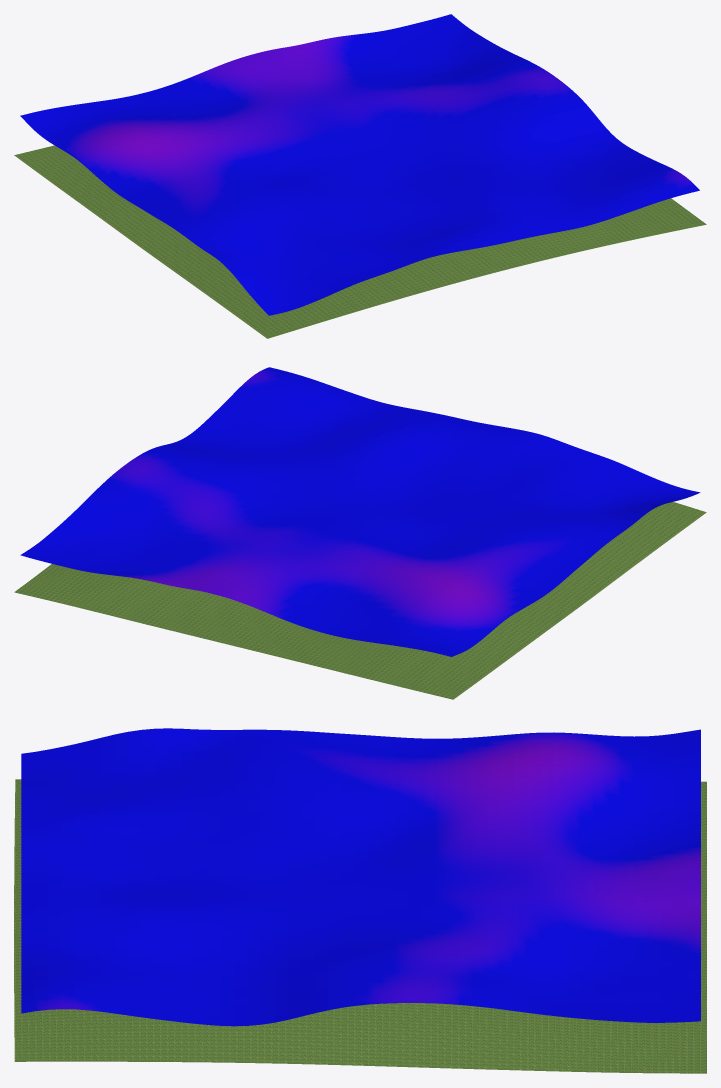
The model's file is terrainobject.glb.
3 views of the same model, one above another, from view 1: azimuth 30°, elevation 25°; view 2: azimuth 150°, elevation 25°; view 3: azimuth 270°, elevation 25° (orthographic). The views are drawn at different scales.
Visible parts, largest first — view 1: Plane.001, Plane; view 2: Plane.001, Plane; view 3: Plane.001, Plane.
Boxes of the visible parts, box(x1,y1,x2,y2) form: Plane.001: box(20, 14, 699, 315); Plane: box(14, 145, 706, 338); Plane.001: box(20, 367, 700, 656); Plane: box(14, 502, 706, 699); Plane.001: box(21, 728, 700, 1026); Plane: box(14, 779, 706, 1073).
Size of the model in its own units: 200 by 21.92 by 200.
Materials: 1 (1 with a texture image).
